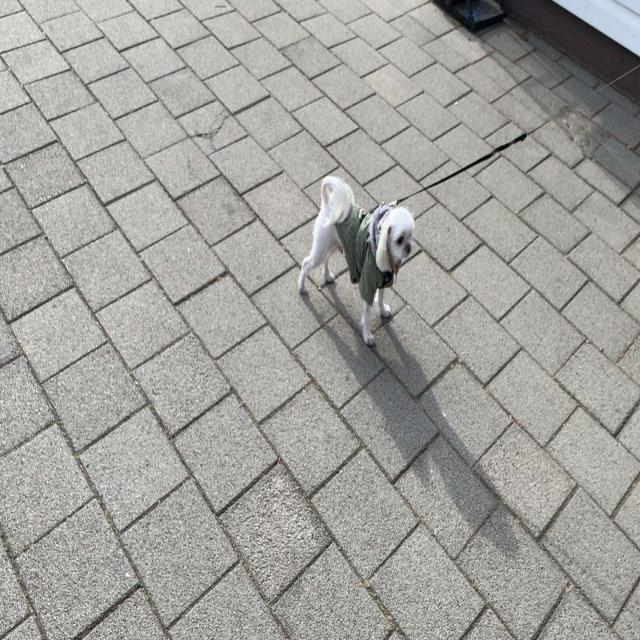Dog: (298, 174, 417, 348)
